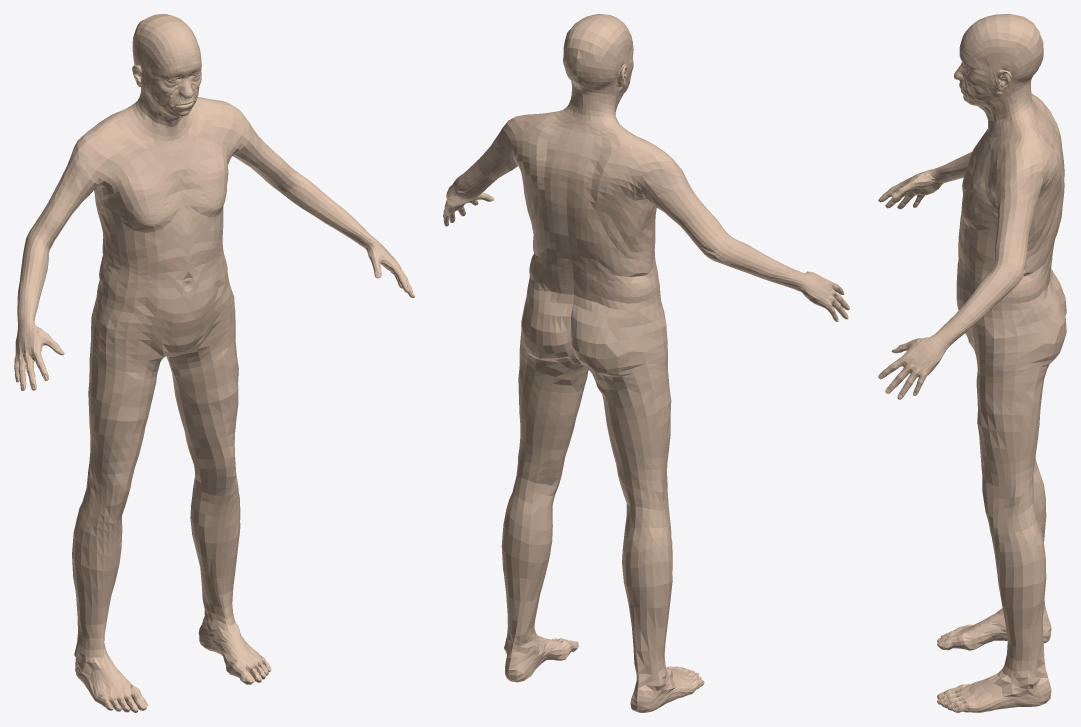
The model's file is male-elder-average-low.glb.
3 views of the same model, side by side, from view 1: azimuth 30°, elevation 25°; view 2: azimuth 150°, elevation 25°; view 3: azimuth 270°, elevation 25° (orthographic).
Visible parts, largest first — view 1: world; view 2: world; view 3: world.
Boxes of the visible parts, x1,y1,x2,y2 form: world: [14, 14, 414, 712]; world: [443, 14, 849, 712]; world: [878, 14, 1066, 712].
Size of the model in its own units: 1.2 by 1.92 by 0.4989.
